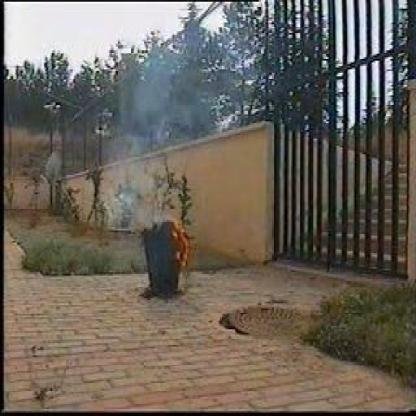-: (110, 65, 162, 223)
foggia-v2-map80-epoch100 - v1 4323: (176, 221, 192, 268)
